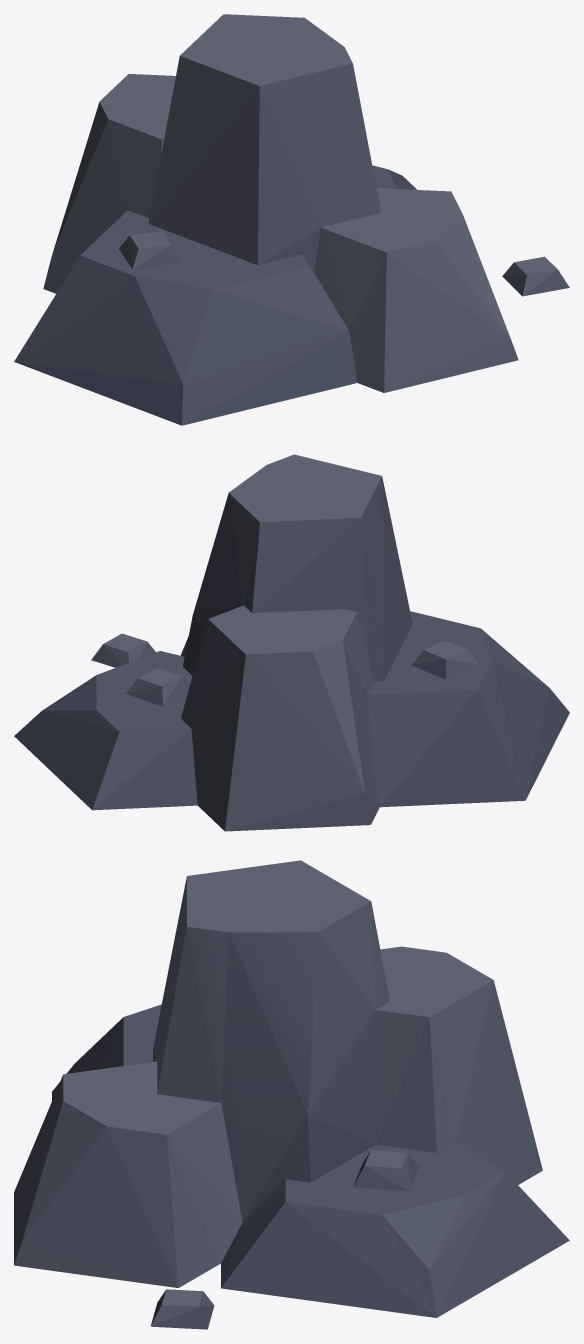
Rendered from survival_rock_b.glb.
3 renders of one model, top to bottom at view 1: azimuth 30°, elevation 25°; view 2: azimuth 150°, elevation 25°; view 3: azimuth 270°, elevation 25°, orthographic. The views are drawn at different scales.
Parts seen in each view (by area): view 1: survival_rock_b; view 2: survival_rock_b; view 3: survival_rock_b.
Boxes of the visible parts, x1,y1,x2,y2 form: survival_rock_b: (14,14,569,425); survival_rock_b: (14,454,569,831); survival_rock_b: (14,860,569,1329).
Bounding box in the file's own units: 0.8346 × 0.4186 × 0.7247.
